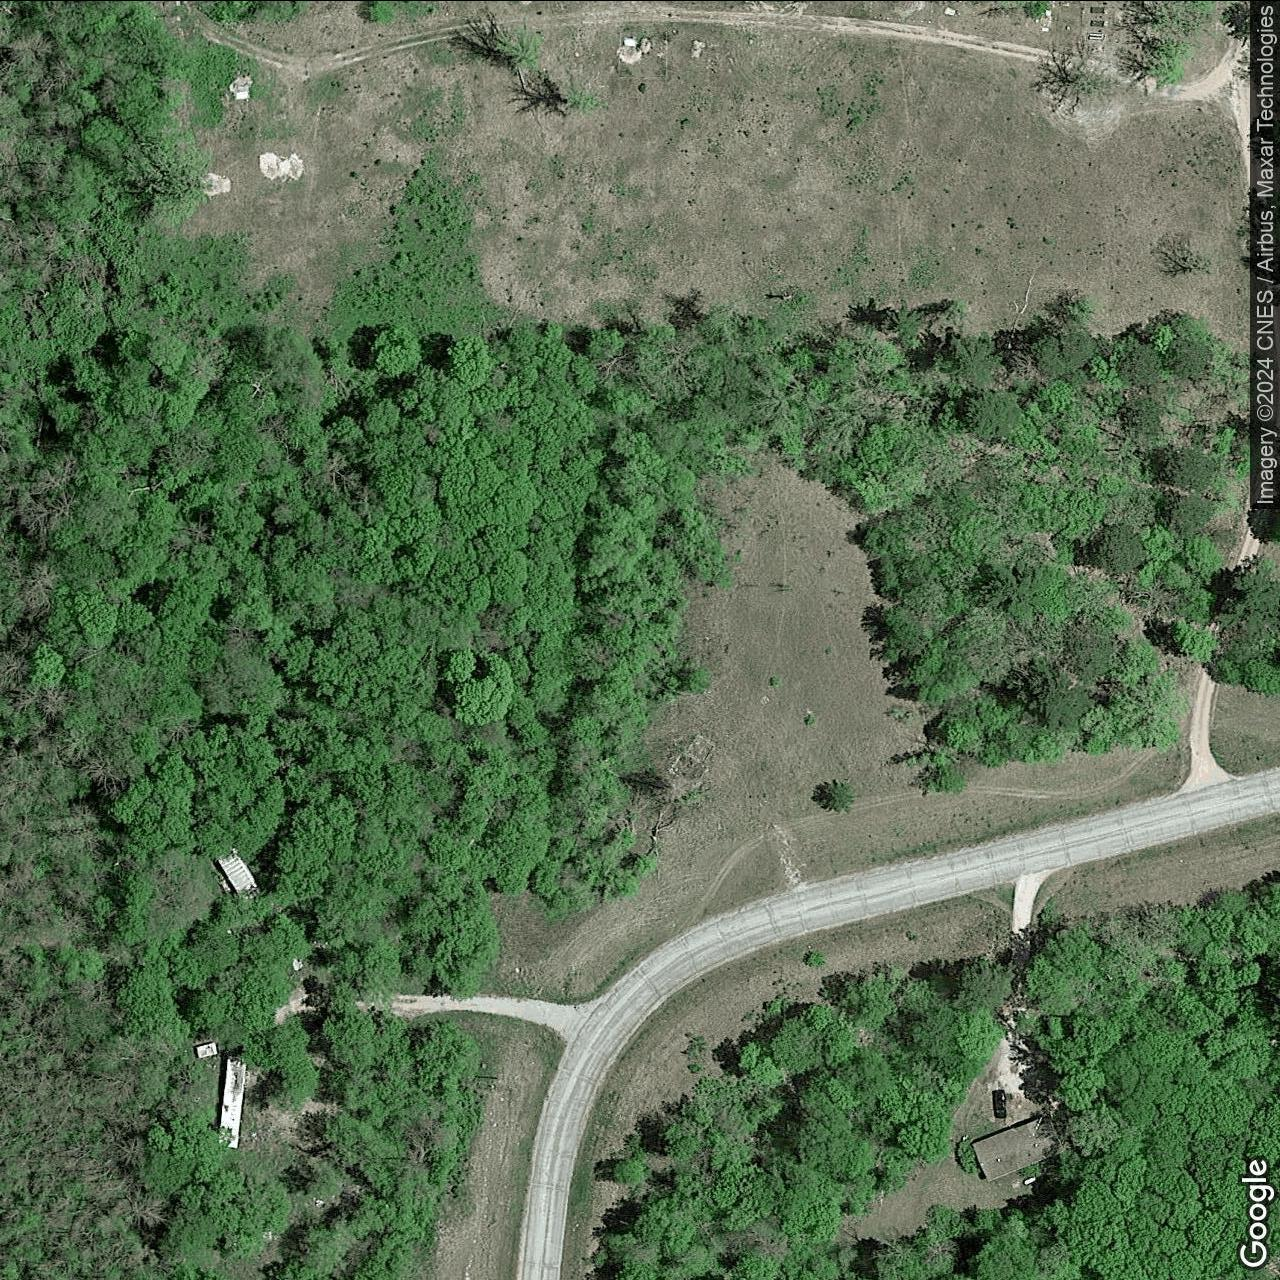House: (971, 1111, 1067, 1183)
Propane: (1021, 1173, 1037, 1187)
Trailer: (217, 1054, 248, 1150)
